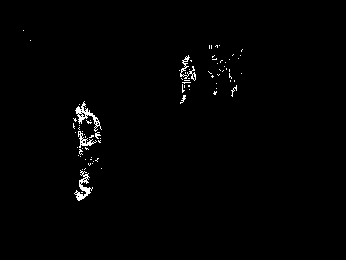person: (69, 100, 104, 204), (178, 53, 197, 104)
